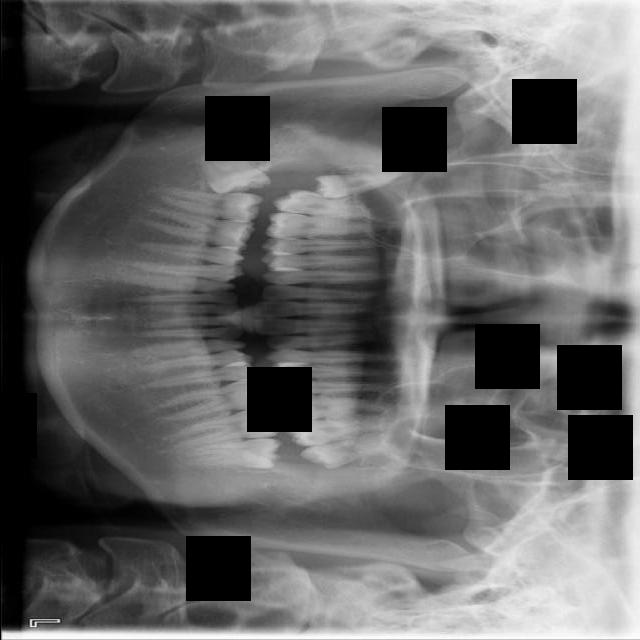3M ESPE Implant: (314, 165, 407, 200)
52: (305, 435, 318, 442)
73: (106, 568, 114, 573)
BioHorizons Implant: (282, 418, 392, 447)
BioLife Implant: (298, 431, 400, 474)
Biomet 3i Implant: (186, 435, 282, 470)
Blue Sky Bio Implant: (174, 404, 281, 450)
Caries: (272, 186, 376, 222)
Implant: (158, 188, 262, 223)
Keystone Dental Implant: (196, 136, 271, 204)
